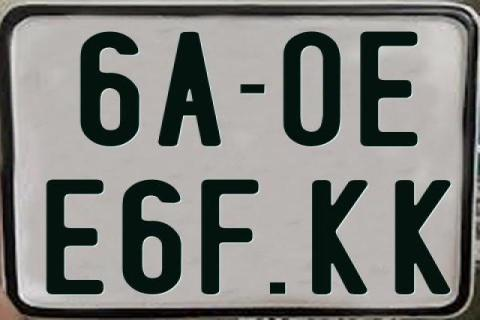0: (283, 29, 347, 148), (78, 29, 142, 145), (122, 178, 181, 298)
A: (158, 32, 227, 151)
E: (45, 178, 107, 296), (359, 32, 419, 150)
F: (199, 177, 261, 295)
K: (392, 179, 450, 297), (312, 179, 369, 297)
